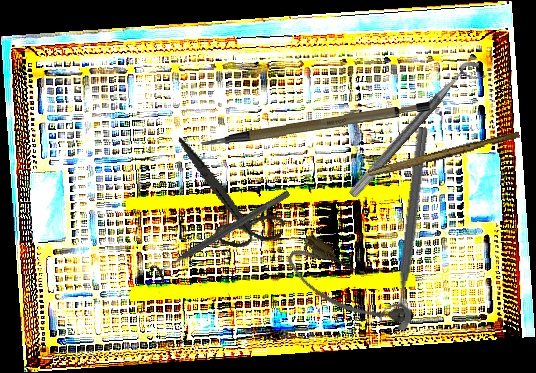Cannula: (280, 229, 421, 347)
Fixation Ring: (347, 55, 490, 209), (148, 182, 296, 288), (375, 124, 435, 332)
Iris Scissors: (152, 136, 301, 260)
Scalpel Handle: (198, 97, 432, 148), (367, 127, 521, 182)
